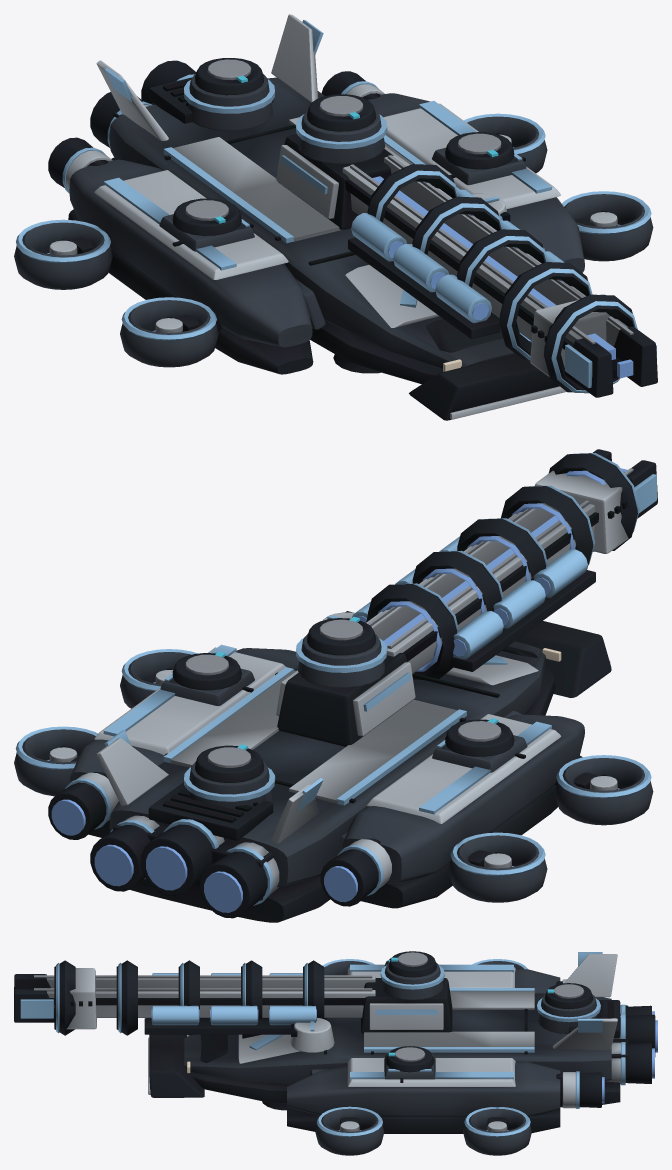
Rendered from ex_lancer_7.glb.
The picture shows the model from 3 angles, top to bottom: view 1: azimuth 30°, elevation 25°; view 2: azimuth 150°, elevation 25°; view 3: azimuth 270°, elevation 25°; orthographic projection. The views are drawn at different scales.
Visible parts, largest first — view 1: body; view 2: body; view 3: body.
Part boxes in pixels (bbox=[...]): body: bbox=[14, 14, 657, 420]; body: bbox=[14, 449, 657, 922]; body: bbox=[14, 951, 657, 1155].
Bounding box in the file's own units: 9.86 × 3.17 × 15.17.
